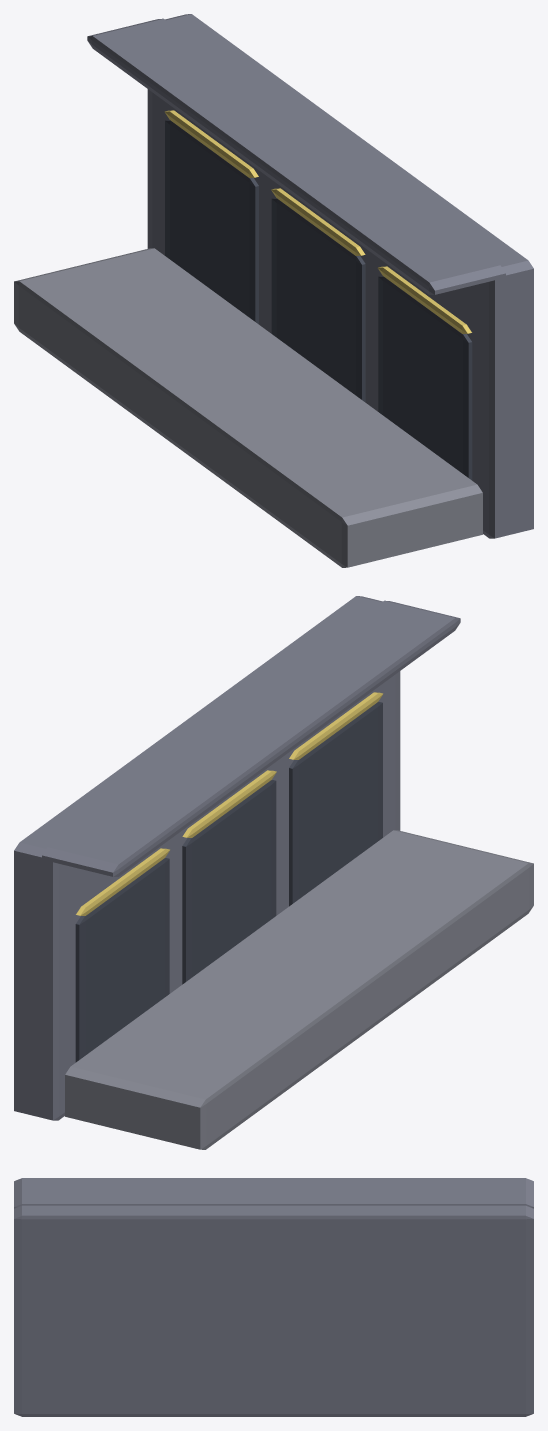
Rendered from sevkiyat.glb.
The picture shows the model from 3 angles, top to bottom: view 1: azimuth 30°, elevation 25°; view 2: azimuth 150°, elevation 25°; view 3: azimuth 270°, elevation 25°; orthographic projection. The views are drawn at different scales.
Visible parts, largest first — view 1: SevkiyatBinasi; view 2: SevkiyatBinasi; view 3: SevkiyatBinasi.
Boxes of the visible parts, x1,y1,x2,y2 form: SevkiyatBinasi: [14, 14, 533, 567]; SevkiyatBinasi: [14, 596, 533, 1149]; SevkiyatBinasi: [14, 1178, 533, 1416].
Bounding box in the file's own units: 4.5 × 6.45 × 15.
